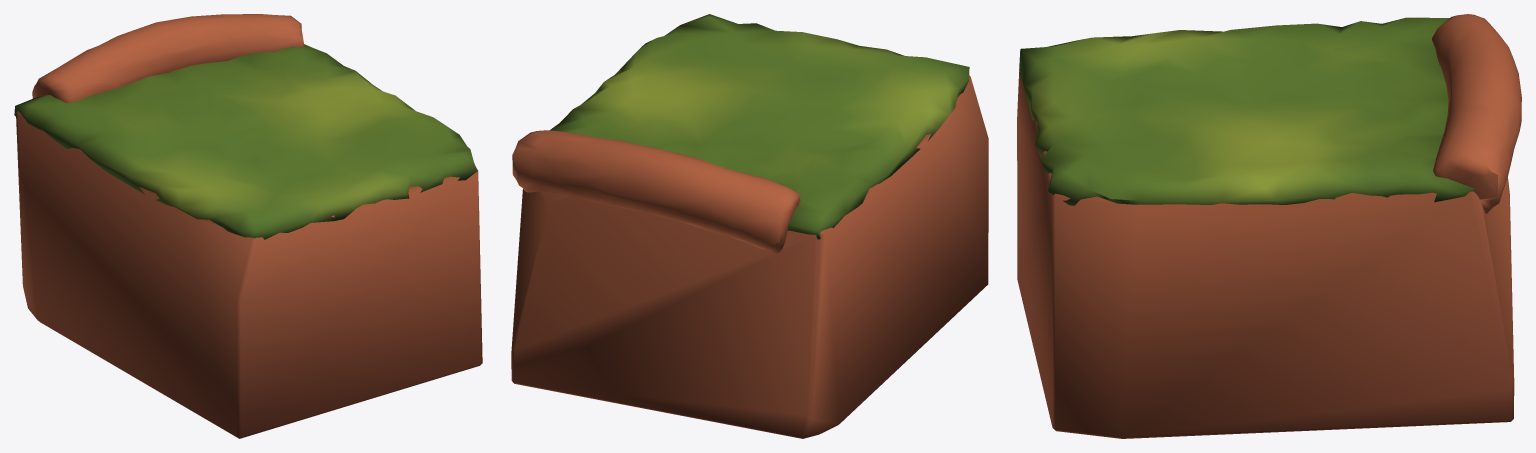
File: mire_pot_shard_lod1.glb
The picture shows the model from 3 angles, left to right: view 1: azimuth 30°, elevation 25°; view 2: azimuth 150°, elevation 25°; view 3: azimuth 270°, elevation 25°; orthographic projection. The views are drawn at different scales.
Parts seen in each view (by area): view 1: mire_pot_shard.001; view 2: mire_pot_shard.001; view 3: mire_pot_shard.001.
Part boxes in pixels (left/top/right/bottom): mire_pot_shard.001: left=14, top=14, right=482, bottom=438; mire_pot_shard.001: left=511, top=14, right=988, bottom=438; mire_pot_shard.001: left=1017, top=14, right=1521, bottom=438.
Bounding box in the file's own units: 5.51 × 4.13 × 6.55.
